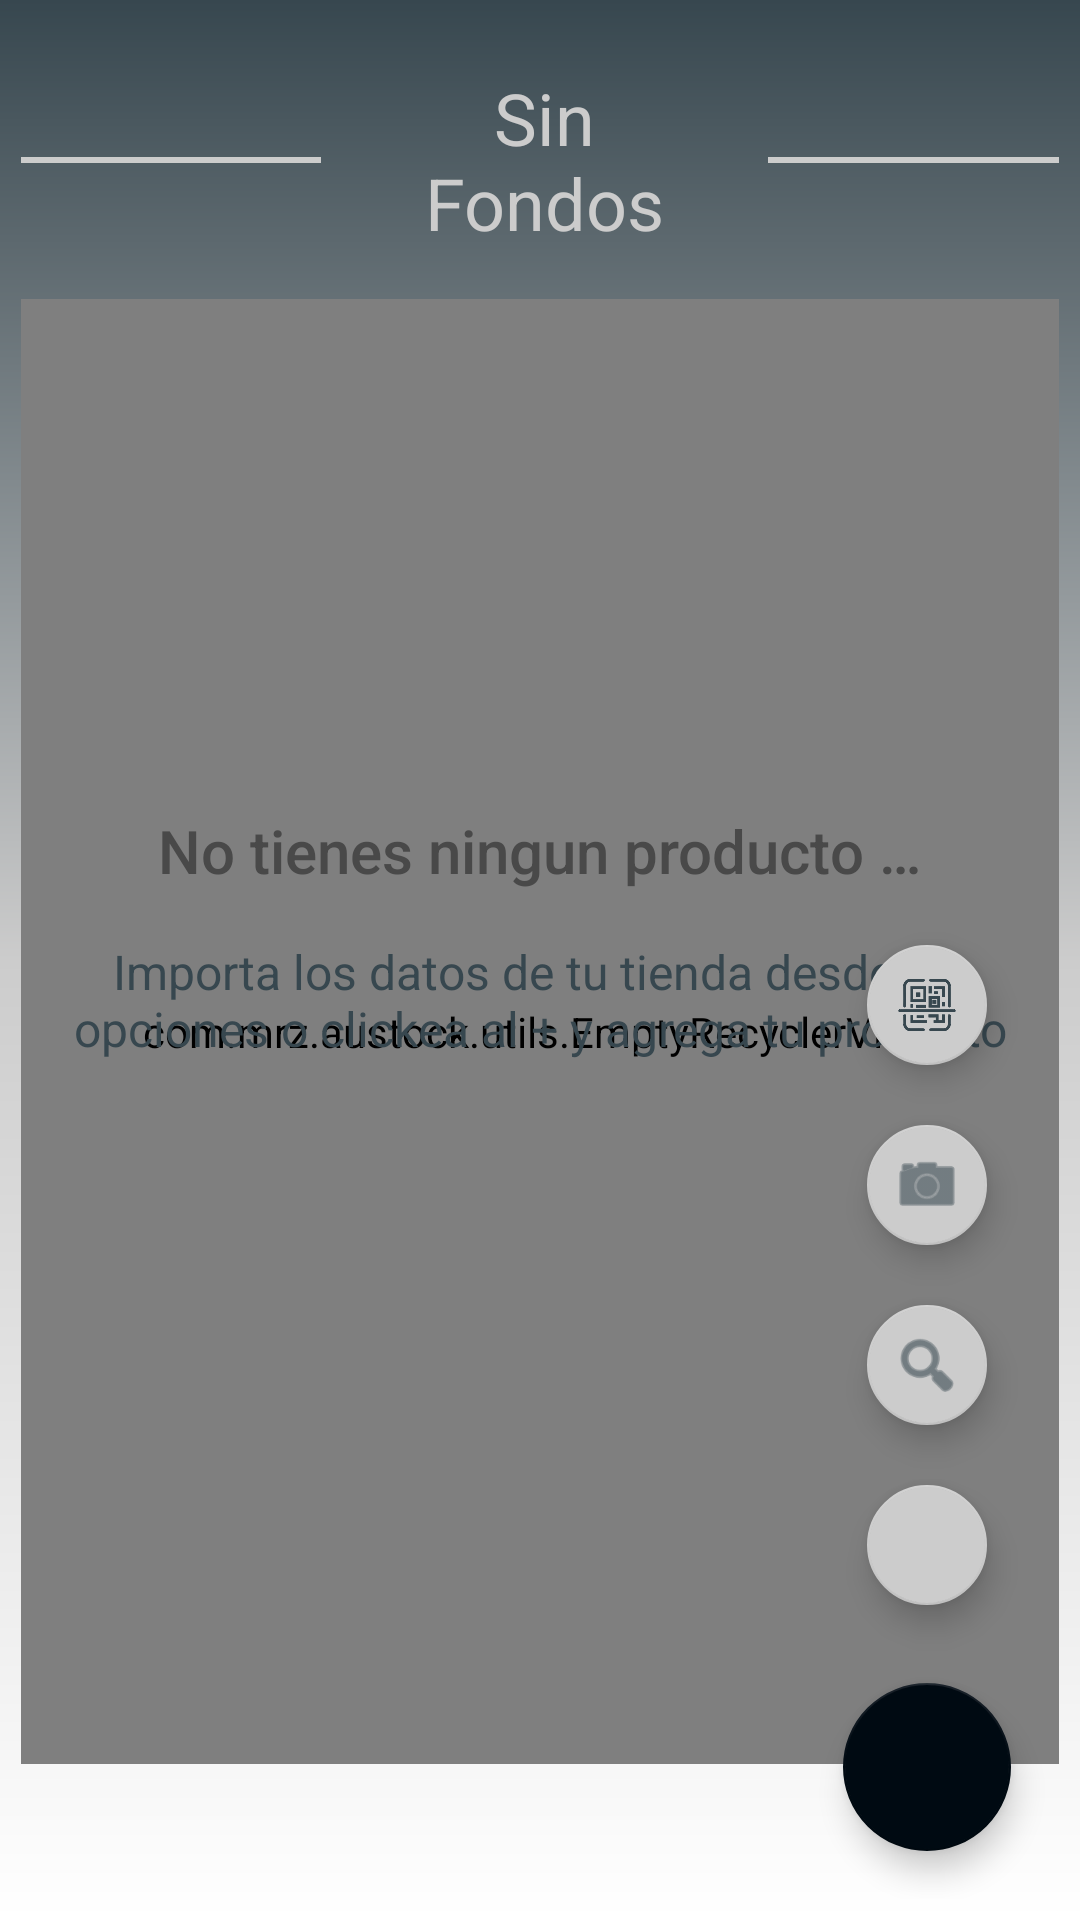

Named icons in this screenshot (1080 x 1920) and their bounding boxes, (x1, y1, x2, y2):
camera: (867, 1125, 987, 1245)
qrcode: (867, 945, 987, 1065)
search: (867, 1305, 987, 1425)
